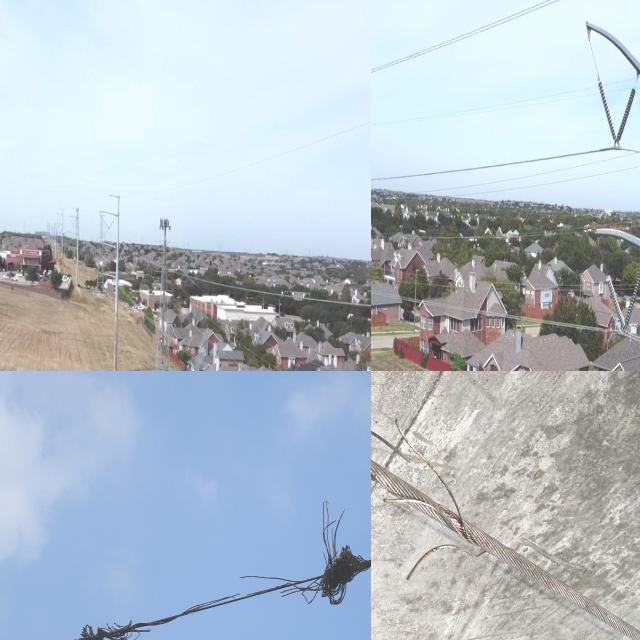杆塔: (155, 212, 173, 371), (94, 209, 108, 296)
正常绝缘子: (590, 64, 622, 155), (600, 259, 633, 345), (607, 78, 640, 161), (614, 261, 640, 351)
电缆破损: (65, 484, 371, 640), (371, 371, 519, 461)
